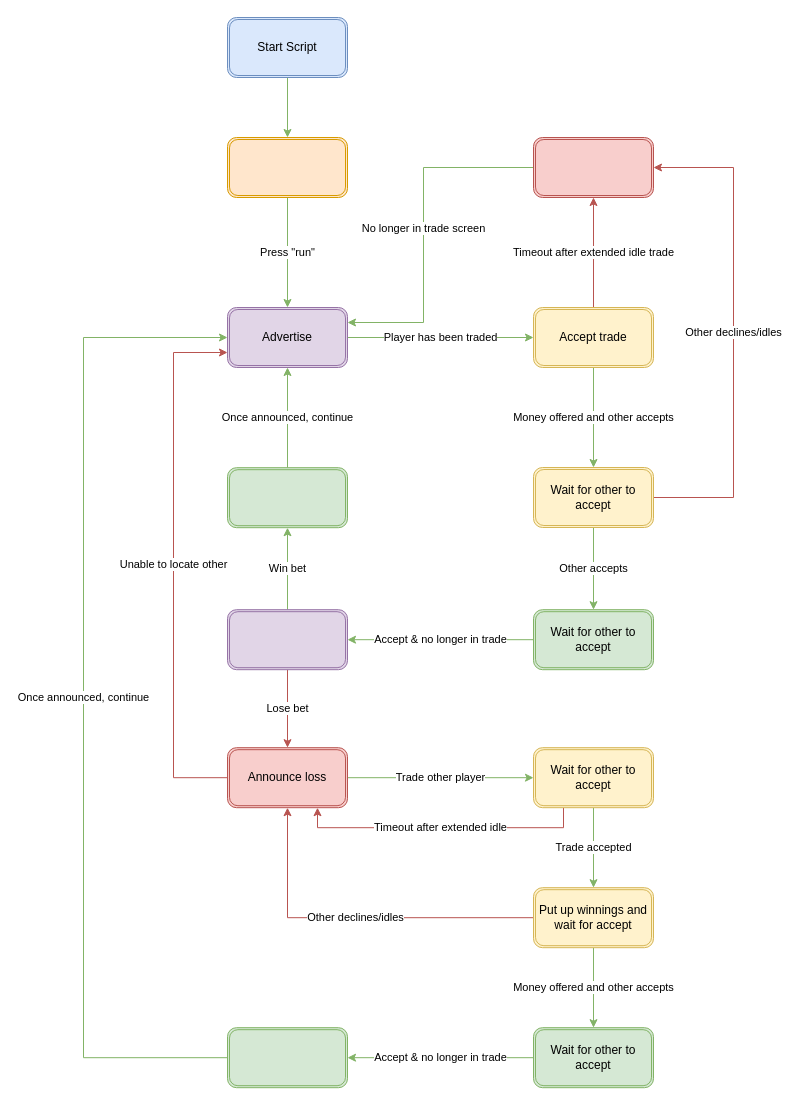
Some shapes in this 799 by 1106 pixel diagram are drawn without their labels. The shapes that lost their labels are listed below. From the top down, each one's box as (x1, y1, x2, y2) in pixels, then its label:
(226, 136, 348, 198): Prompted with GUI
(532, 136, 654, 198): Decline Trade
(226, 467, 348, 528): Announce win
(226, 609, 348, 670): Roll Dice
(226, 1027, 348, 1088): Announce payout
